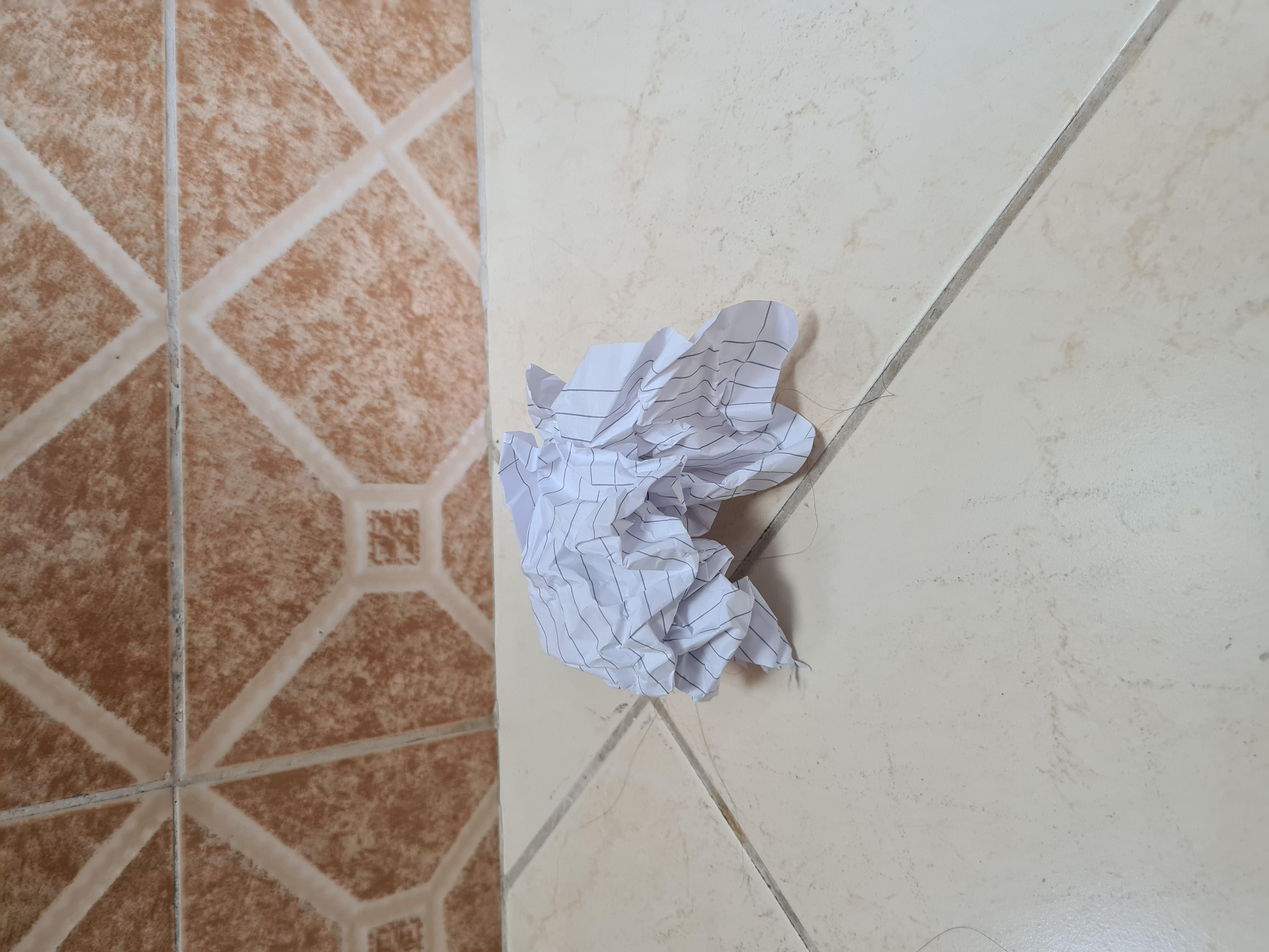paper: (362, 381, 854, 612)
